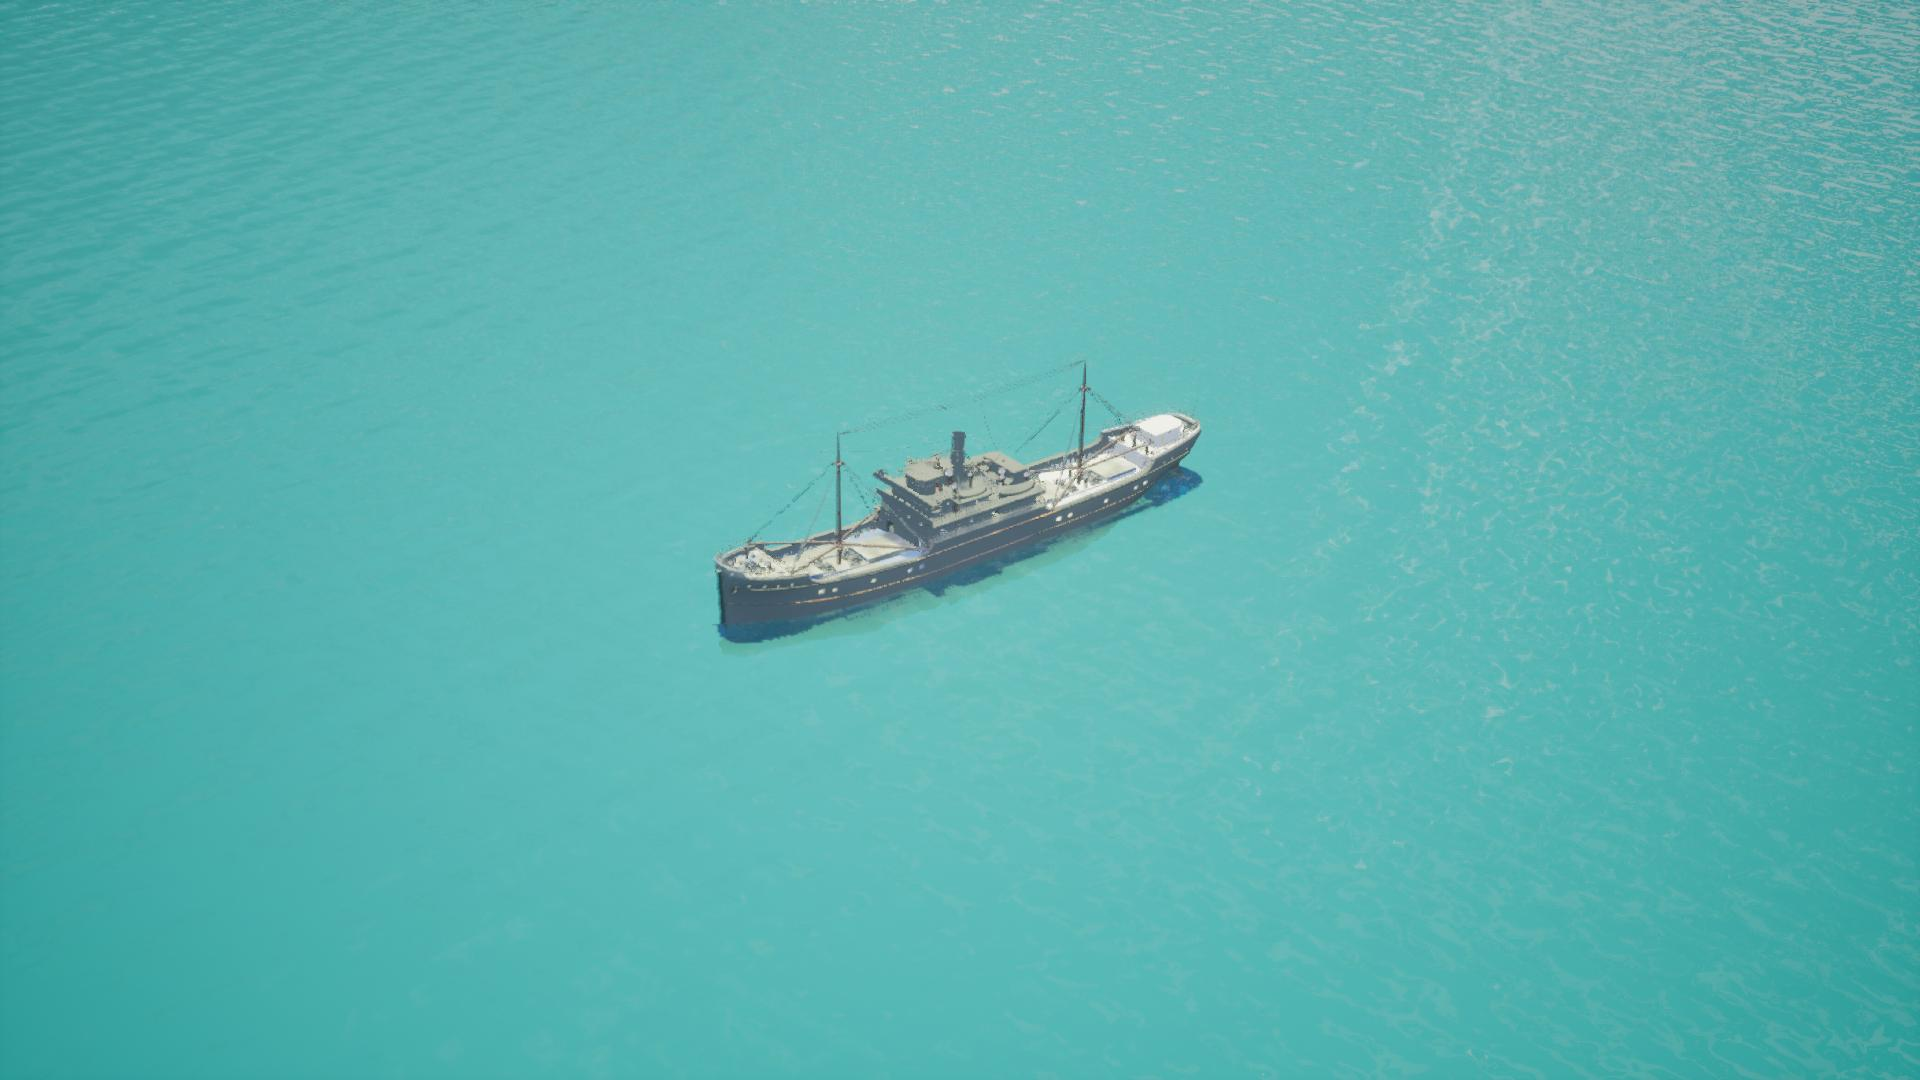Fishing Boat: (707, 373, 1211, 649)
